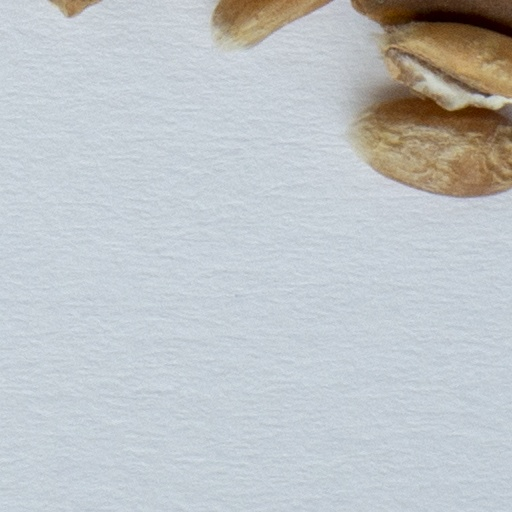Peel-poly: (348, 0, 511, 37)
Wheat-grain-damaged-poly: (367, 19, 511, 110)
